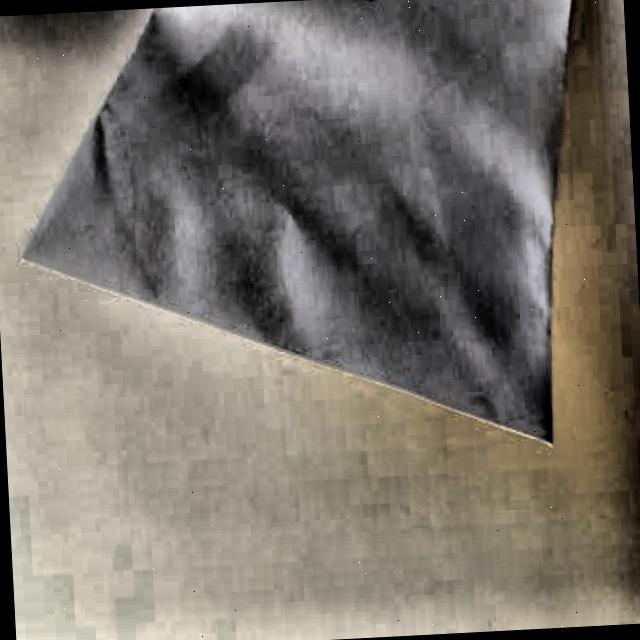paper: (6, 0, 599, 476)
